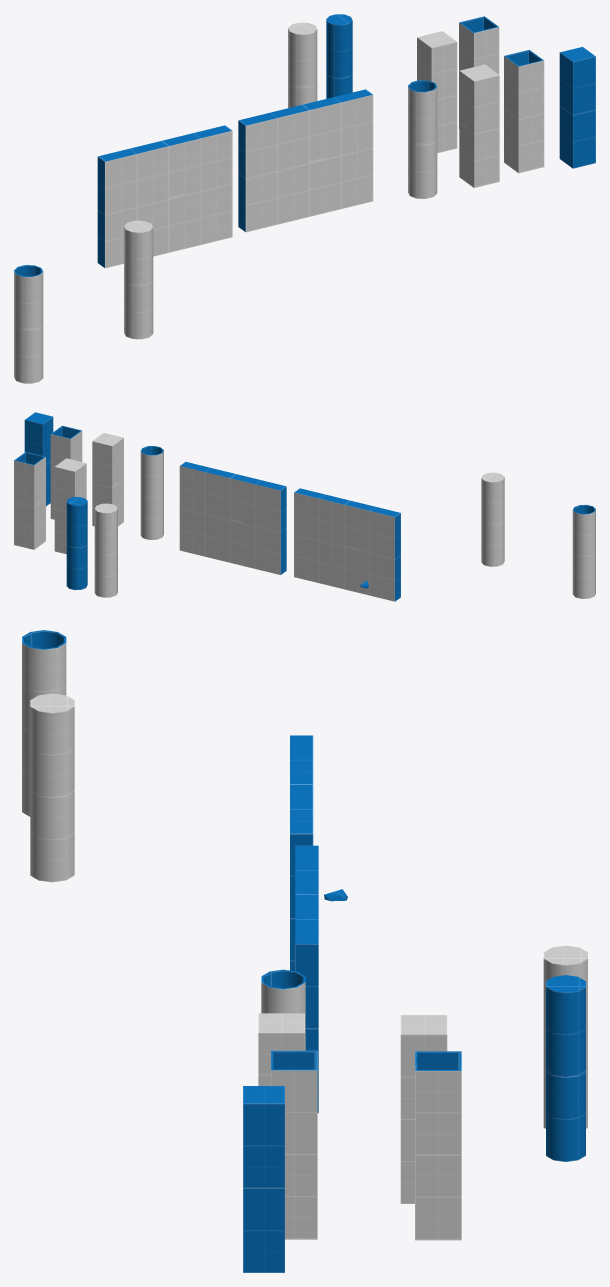
File: Fragged Objects Model.fbx
The picture shows the model from 3 angles, top to bottom: view 1: azimuth 30°, elevation 25°; view 2: azimuth 150°, elevation 25°; view 3: azimuth 270°, elevation 25°; orthographic projection. The views are drawn at different scales.
Parts seen in each view (by area): view 1: Wall_05x5_Uncut, Pillar_Hollow_1x4_Base, Pillar_Cylinder_Hollow, Pillar_Solid_1x4, Pillar_Cylinder, Pillar_Cylinder_Base, Pillar_Hollow_1x4, Wall_05x5_38, Wall_05x5_22, Wall_05x5_44, Wall_05x5_24, Wall_05x5_43 (+6 smaller); view 2: Wall_05x5_Uncut, Pillar_Hollow_1x4, Pillar_Cylinder, Pillar_Cylinder_Hollow, Pillar_Cylinder_Base, Pillar_Solid_1x4, Pillar_Hollow_1x4_Base, Wall_05x5_44, Wall_05x5_25, Wall_05x5_46, Wall_05x5_48, Wall_05x5_38 (+14 smaller); view 3: Pillar_Hollow_1x4, Pillar_Hollow_1x4_Base, Pillar_Cylinder_Base, Pillar_Solid_1x4, Wall_05x5_Uncut, Pillar_Cylinder, Pillar_Cylinder_Hollow, Pillar_Cylinder_10, Wall_05x5_25, Pillar_Cylinder_12.
Part boxes in pixels (x1,y1,x2,y2): Wall_05x5_Uncut: [97, 125, 232, 268]; Pillar_Hollow_1x4_Base: [559, 46, 595, 168]; Pillar_Cylinder_Hollow: [408, 80, 437, 198]; Pillar_Solid_1x4: [417, 31, 457, 153]; Pillar_Cylinder: [288, 22, 317, 107]; Pillar_Cylinder_Base: [326, 14, 352, 98]; Pillar_Hollow_1x4: [459, 16, 499, 128]; Wall_05x5_38: [238, 117, 263, 150]; Wall_05x5_22: [342, 95, 370, 132]; Wall_05x5_44: [238, 144, 259, 184]; Wall_05x5_24: [319, 94, 350, 128]; Wall_05x5_43: [245, 176, 274, 204]; Wall_05x5_Uncut: [294, 488, 400, 601]; Pillar_Hollow_1x4: [14, 452, 45, 549]; Pillar_Cylinder: [94, 503, 117, 597]; Pillar_Cylinder_Hollow: [140, 446, 163, 539]; Pillar_Cylinder_Base: [66, 497, 87, 590]; Pillar_Solid_1x4: [54, 458, 86, 554]; Pillar_Hollow_1x4_Base: [24, 412, 53, 506]; Wall_05x5_44: [268, 506, 286, 536]; Wall_05x5_25: [179, 461, 198, 496]; Wall_05x5_46: [238, 534, 263, 554]; Wall_05x5_48: [263, 533, 286, 554]; Wall_05x5_38: [270, 483, 286, 509]; Pillar_Hollow_1x4: [415, 1051, 461, 1240]; Pillar_Hollow_1x4_Base: [243, 1086, 284, 1272]; Pillar_Cylinder_Base: [546, 975, 585, 1161]; Pillar_Solid_1x4: [400, 1015, 447, 1203]; Wall_05x5_Uncut: [290, 735, 313, 970]; Pillar_Cylinder: [543, 945, 587, 1128]; Pillar_Cylinder_Hollow: [261, 969, 305, 1050]; Pillar_Cylinder_10: [30, 698, 66, 736]; Wall_05x5_25: [295, 928, 318, 968]; Pillar_Cylinder_12: [30, 850, 70, 882].
Bounding box in the file's own units: 2521 × 456 × 1213.
